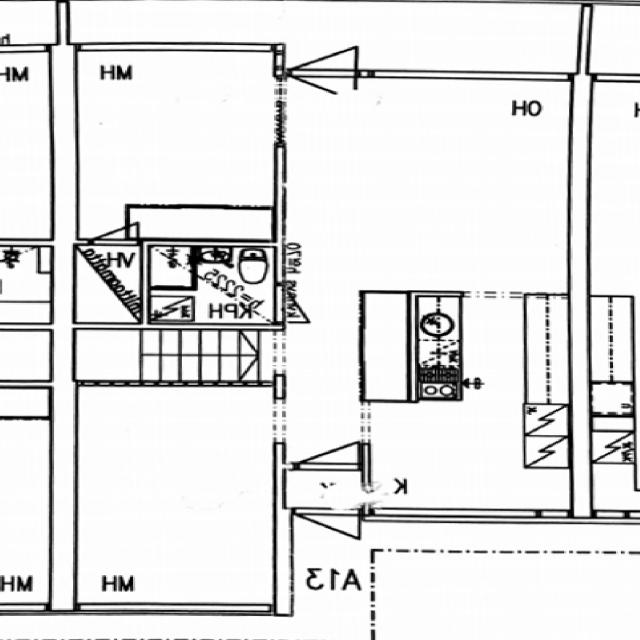door: (296, 508, 360, 569), (290, 72, 356, 129), (290, 24, 356, 81), (292, 415, 359, 470), (272, 283, 338, 321)
